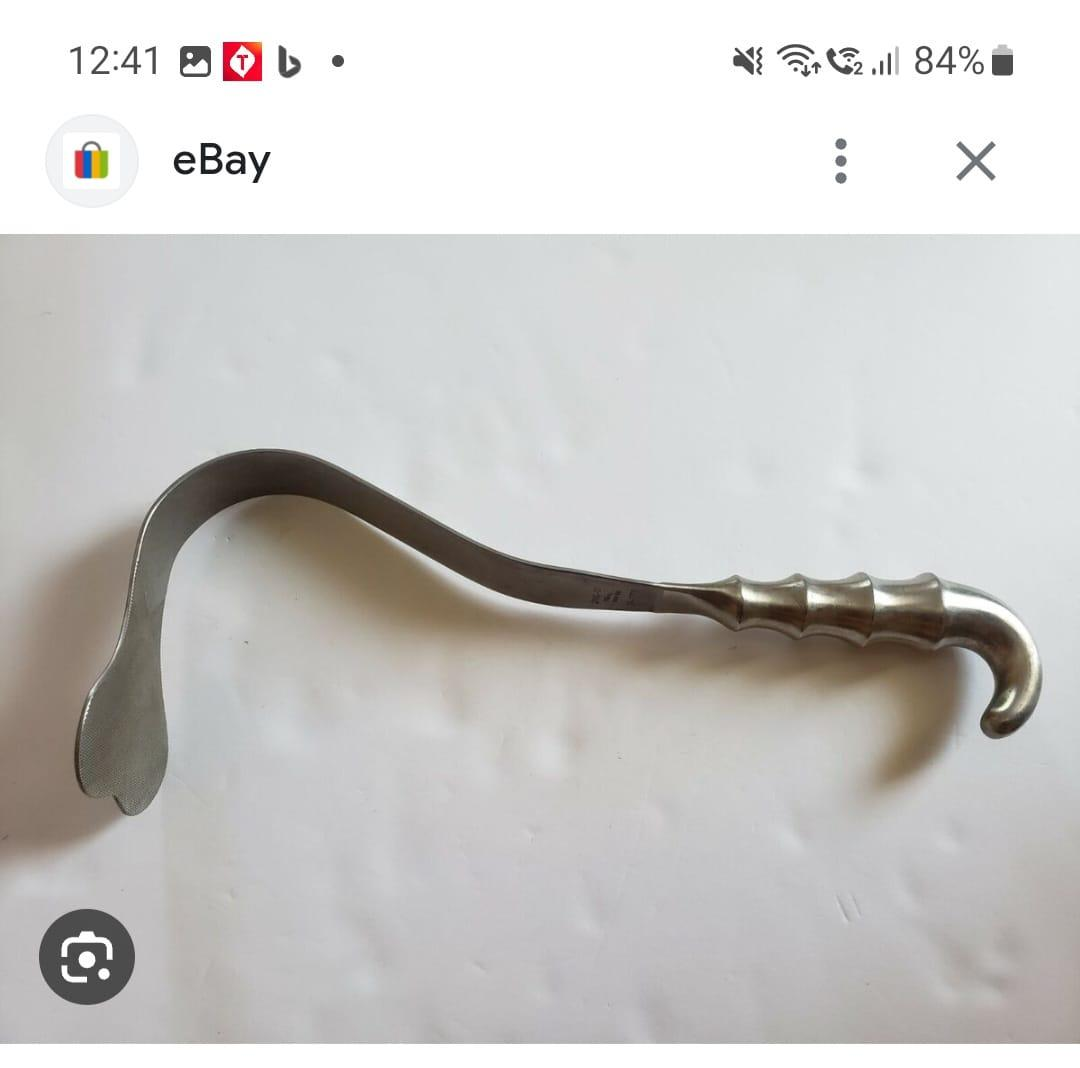Harrington Retractor: (65, 443, 1047, 827)
